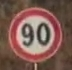limite 90: (7, 6, 62, 62)
